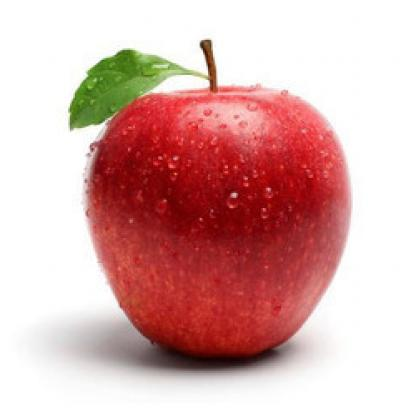apple: (77, 85, 356, 368)
